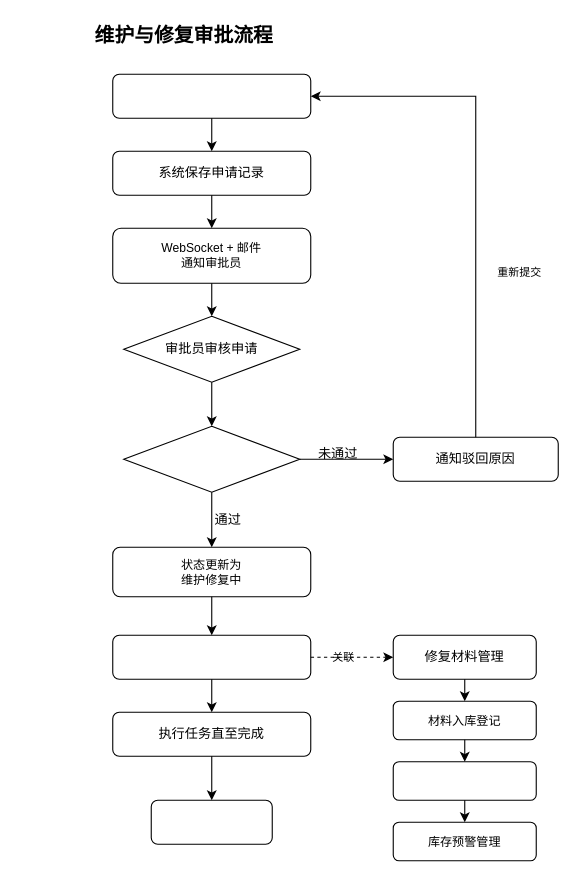
Some shapes in this 578 by 880 pixel diagram are drawn without their labels. The box of each missing label's shape, as (x1, y1, x2, y2) in pixels:
保管员提交维护修复申请: (112, 73, 311, 118)
分配专家并选择材料: (112, 634, 311, 679)
审批是否通过？: (123, 425, 300, 492)
材料出库记录: (392, 761, 536, 800)
流程结束: (150, 799, 272, 844)
